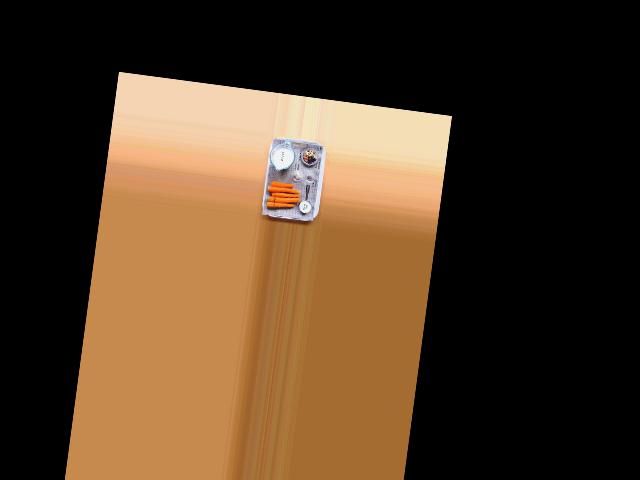carrot: (266, 198, 296, 210)
